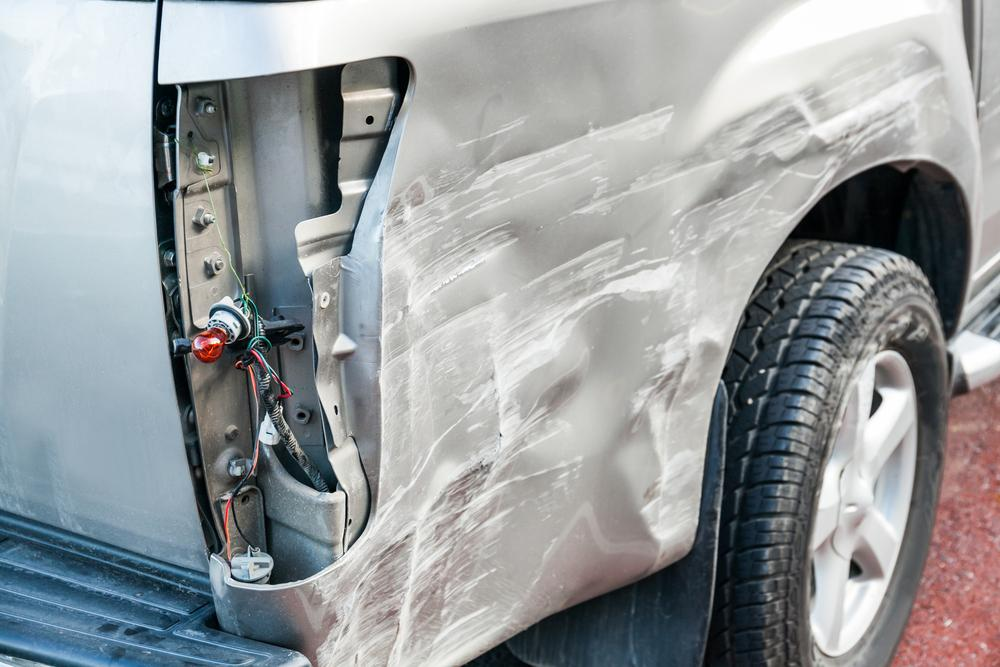dent: (329, 0, 976, 667)
